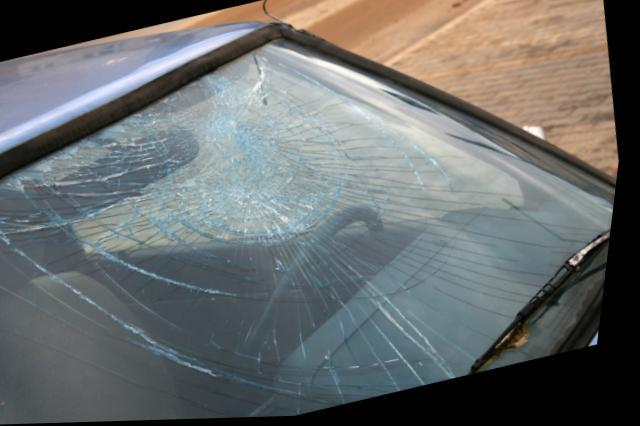glass shatter: (0, 39, 621, 425)
